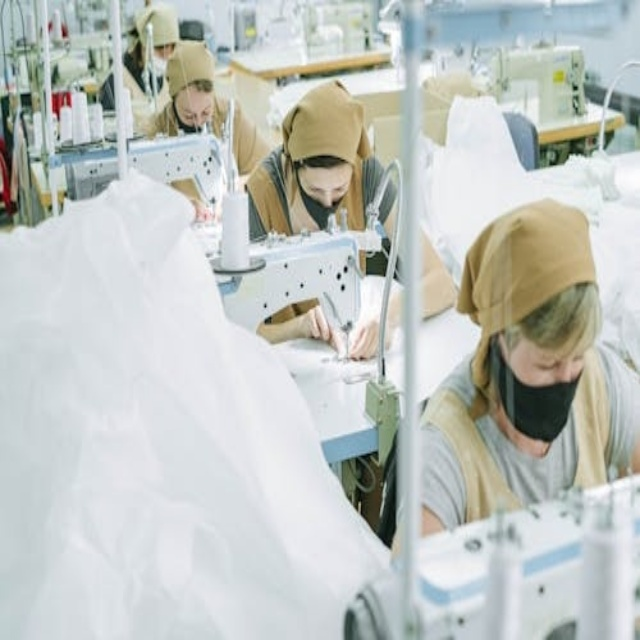Mascara: (492, 336, 591, 446), (292, 171, 352, 234), (169, 104, 207, 136)
Sin_gafas: (510, 321, 587, 377), (297, 159, 355, 209), (177, 96, 209, 123)
Sin_guantes: (344, 299, 396, 360), (304, 302, 350, 355), (189, 195, 218, 225)
